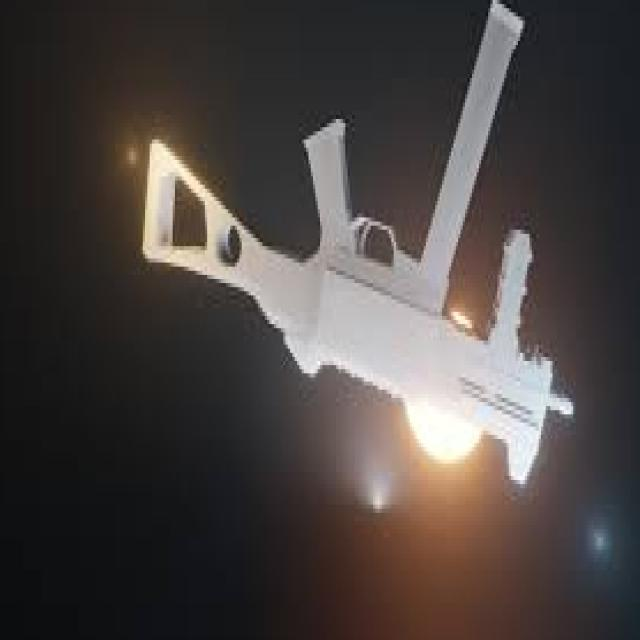Gun: (113, 0, 571, 493)
